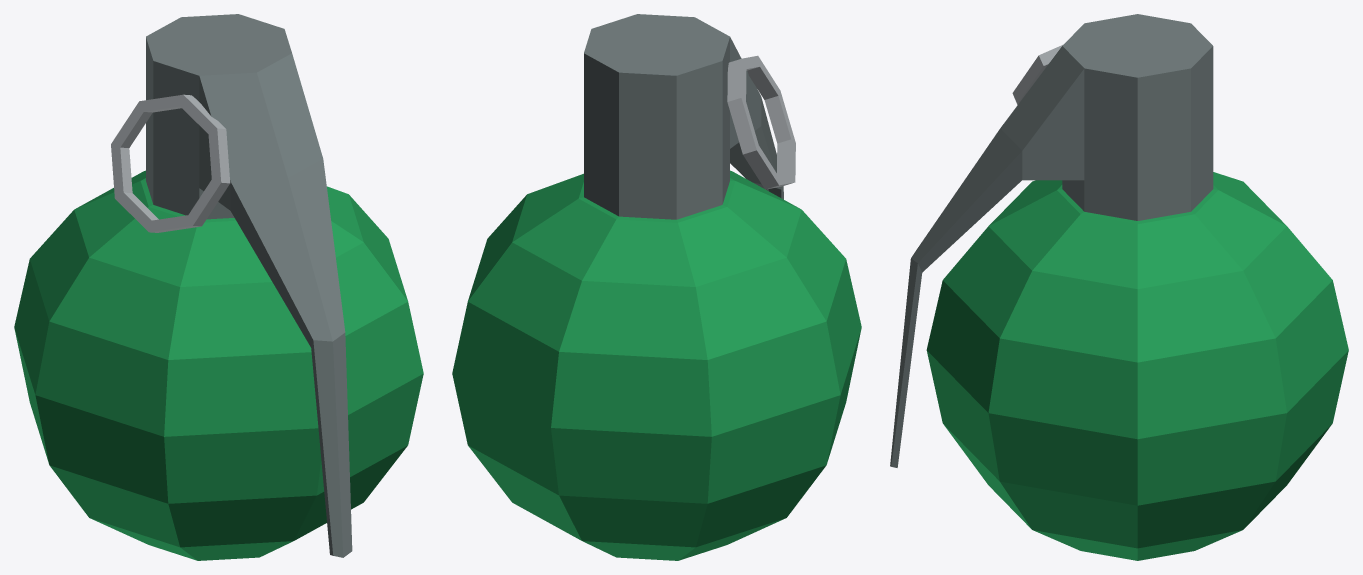
The model's file is HE Grenade.fbx.
3 renders of one model, left to right at view 1: azimuth 30°, elevation 25°; view 2: azimuth 150°, elevation 25°; view 3: azimuth 270°, elevation 25°, orthographic.
Visible parts, largest first — view 1: Sphere, Cylinder, Circle; view 2: Sphere, Cylinder, Circle; view 3: Sphere, Cylinder, Circle.
Part boxes in pixels (bbox=[...]): Sphere: bbox=[14, 170, 423, 560]; Cylinder: bbox=[146, 14, 352, 557]; Circle: bbox=[111, 94, 230, 232]; Sphere: bbox=[452, 170, 861, 560]; Cylinder: bbox=[584, 14, 783, 219]; Circle: bbox=[727, 55, 795, 189]; Sphere: bbox=[926, 172, 1348, 560]; Cylinder: bbox=[890, 14, 1213, 467]; Circle: bbox=[1012, 45, 1062, 104].
Size of the model in its own units: 200 by 259 by 217.
